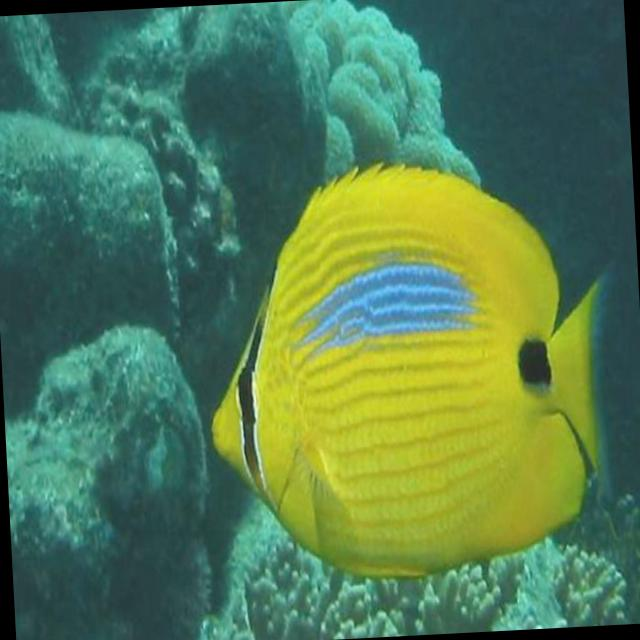ButterflyFish: (199, 154, 622, 584)
